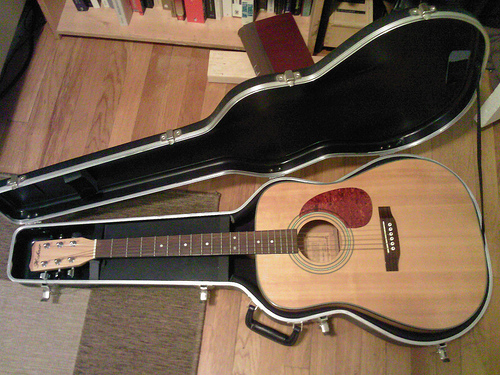guitar: (25, 157, 491, 335)
